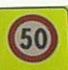limite 50: (6, 13, 57, 63)
